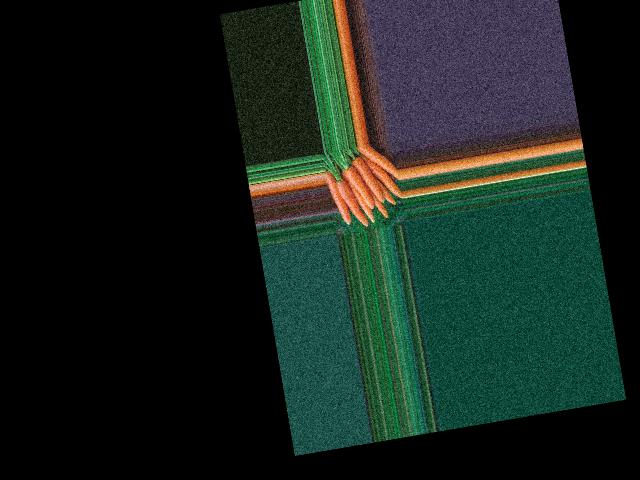carrot: (354, 142, 401, 192)
